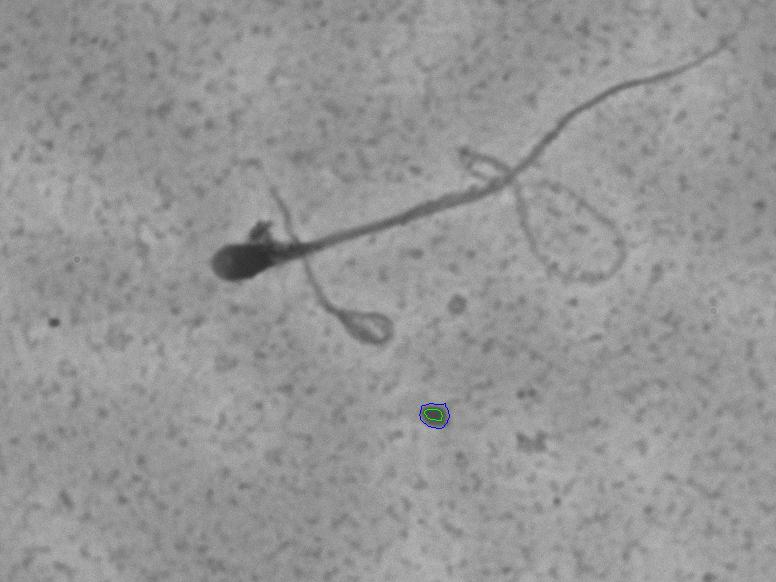Abnormal: (199, 73, 729, 383)
